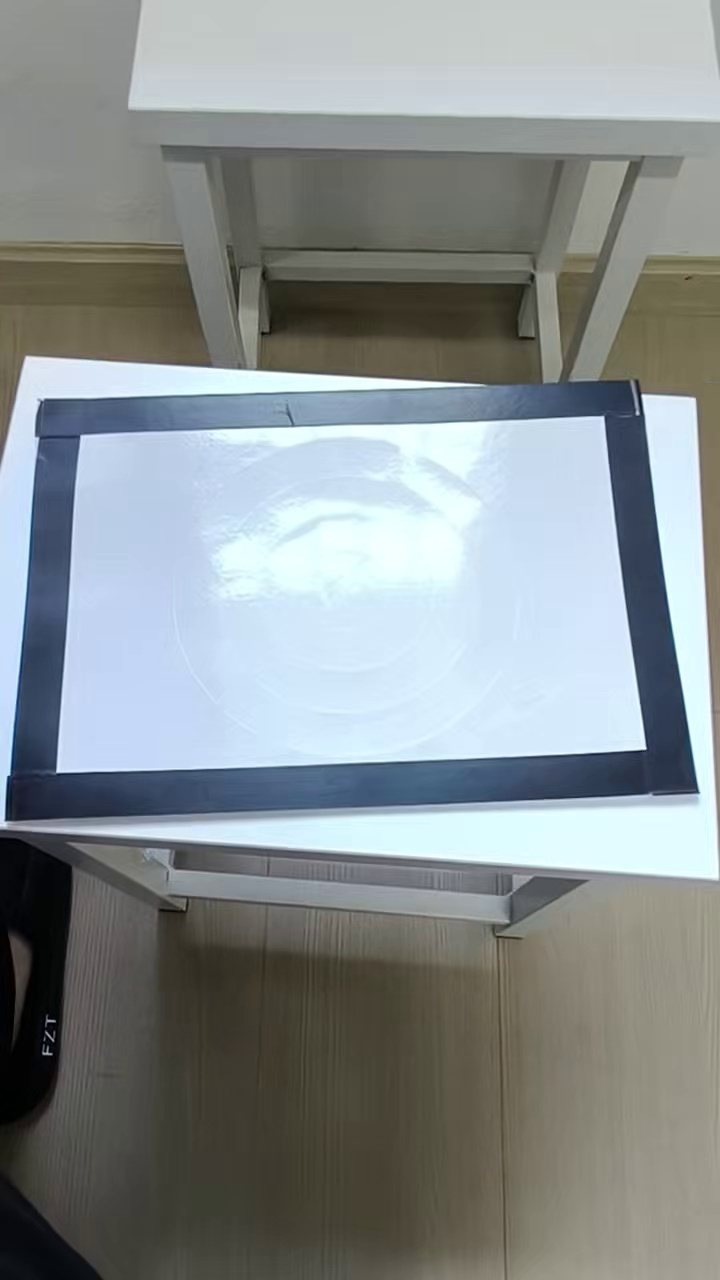board: (12, 375, 693, 819)
